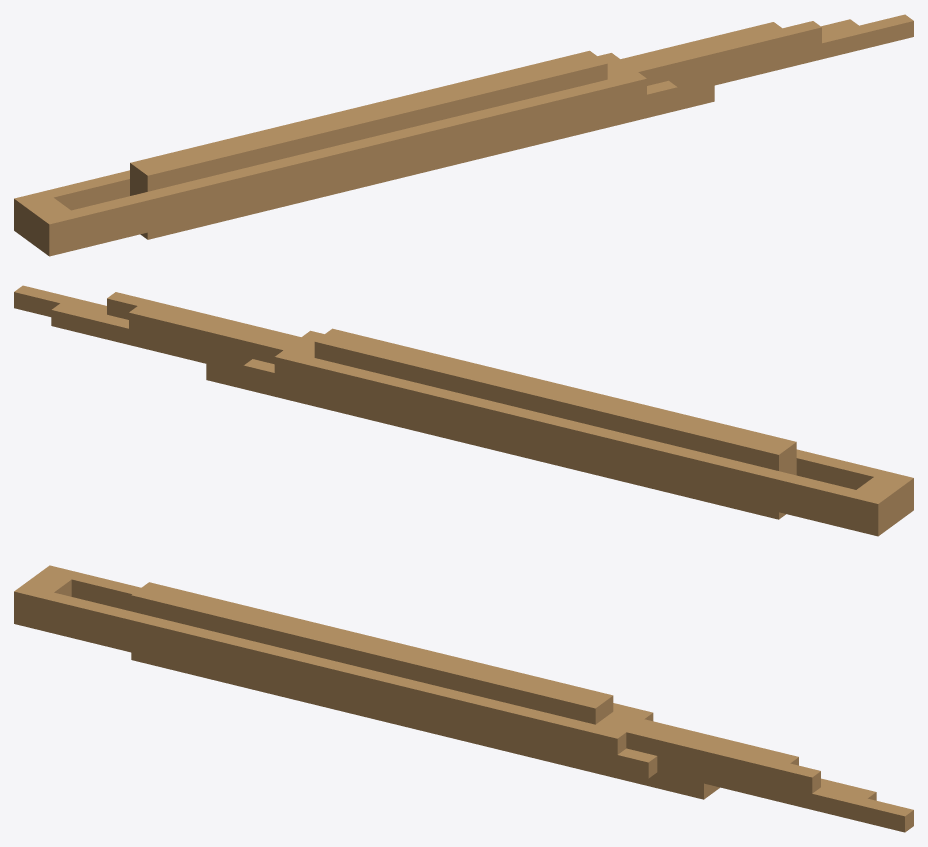
File: needle_wood.glb
3 renders of one model, top to bottom at view 1: azimuth 30°, elevation 25°; view 2: azimuth 150°, elevation 25°; view 3: azimuth 330°, elevation 25°, orthographic.
Parts seen in each view (by area): view 1: needle_wood:compound; view 2: needle_wood:compound; view 3: needle_wood:compound.
Boxes of the visible parts, x1,y1,x2,y2 form: needle_wood:compound: (14, 14, 913, 256); needle_wood:compound: (14, 285, 913, 536); needle_wood:compound: (14, 565, 913, 832).
Bounding box in the file's own units: 0.114 × 0.008 × 0.008.
